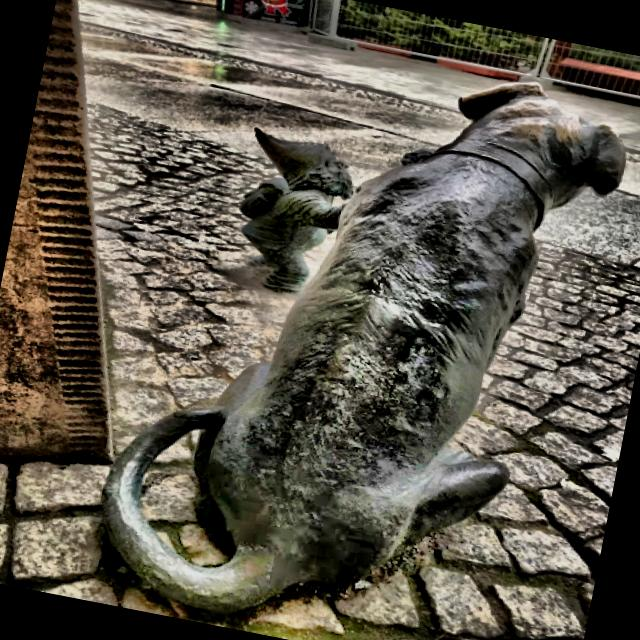Piwozlopek_ i_Piesel_Piwosz: (104, 83, 624, 613)
